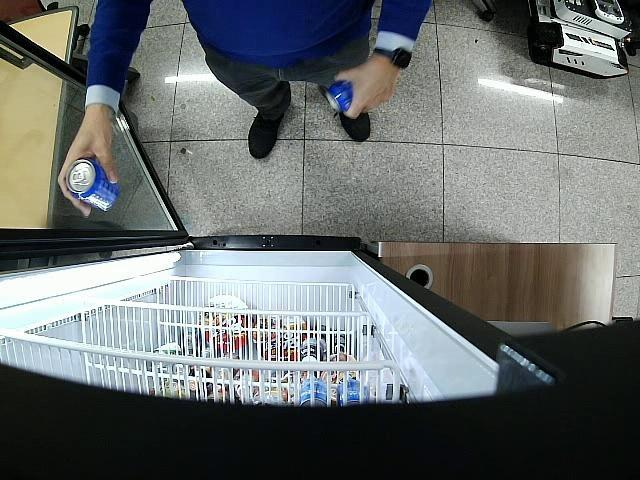13_pocariSweat: (66, 158, 120, 211), (324, 80, 353, 116)
